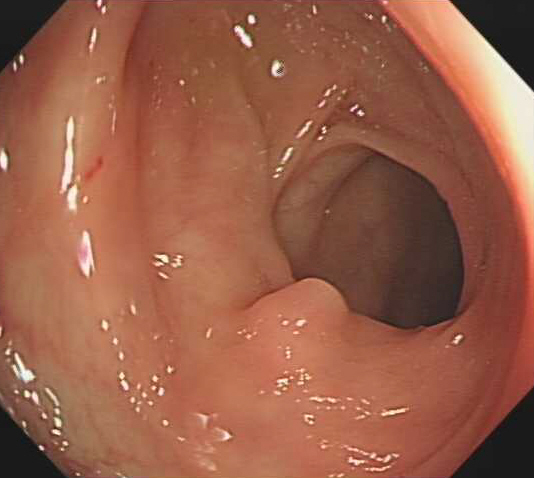others: (246, 275, 348, 332)
